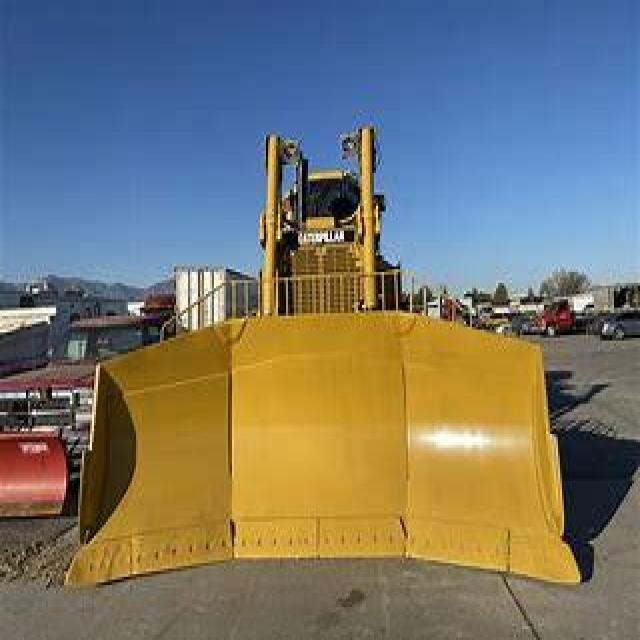Bulldozer: (62, 112, 616, 610)
